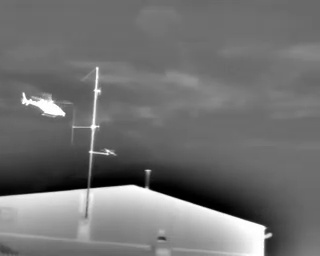HELICOPTER: (19, 86, 76, 125)
